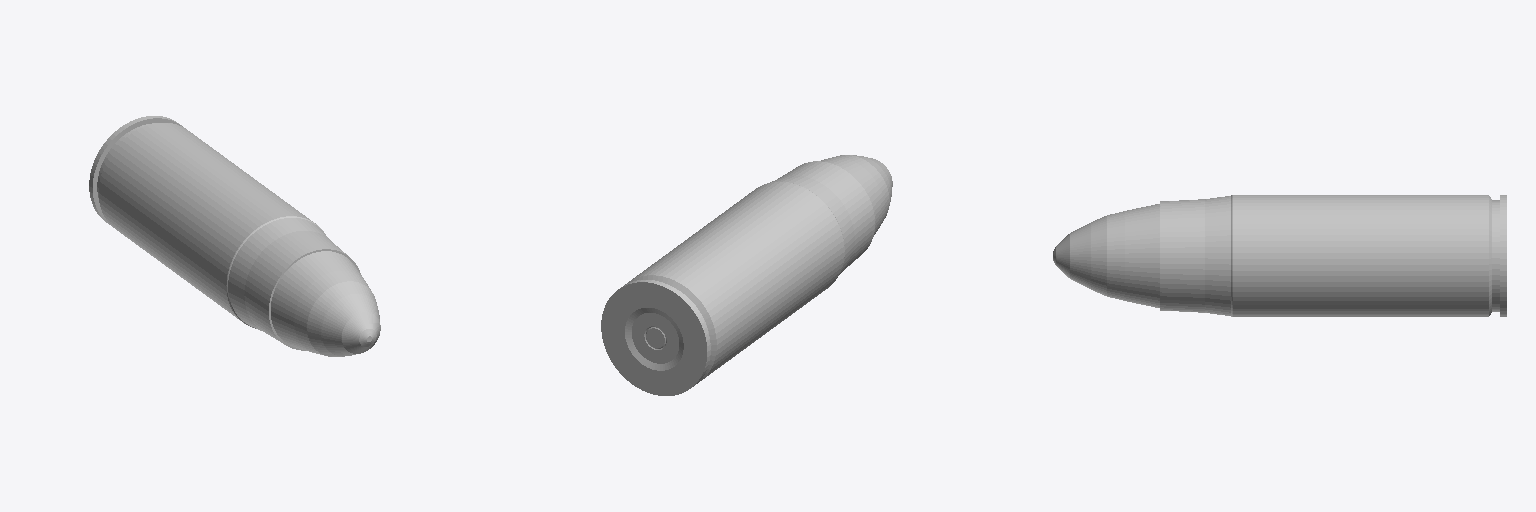
The model's file is bullet_9x39.obj.
3 views of the same model, side by side, from view 1: azimuth 30°, elevation 25°; view 2: azimuth 150°, elevation 25°; view 3: azimuth 270°, elevation 25° (orthographic).
Visible parts, largest first — view 1: Cilindre; view 2: Cilindre; view 3: Cilindre.
Part boxes in pixels (left/top/right/bottom): Cilindre: left=89, top=116, right=380, bottom=356; Cilindre: left=601, top=155, right=892, bottom=395; Cilindre: left=1053, top=195, right=1506, bottom=316.
Size of the model in its own units: 1.13 by 1.13 by 4.19.